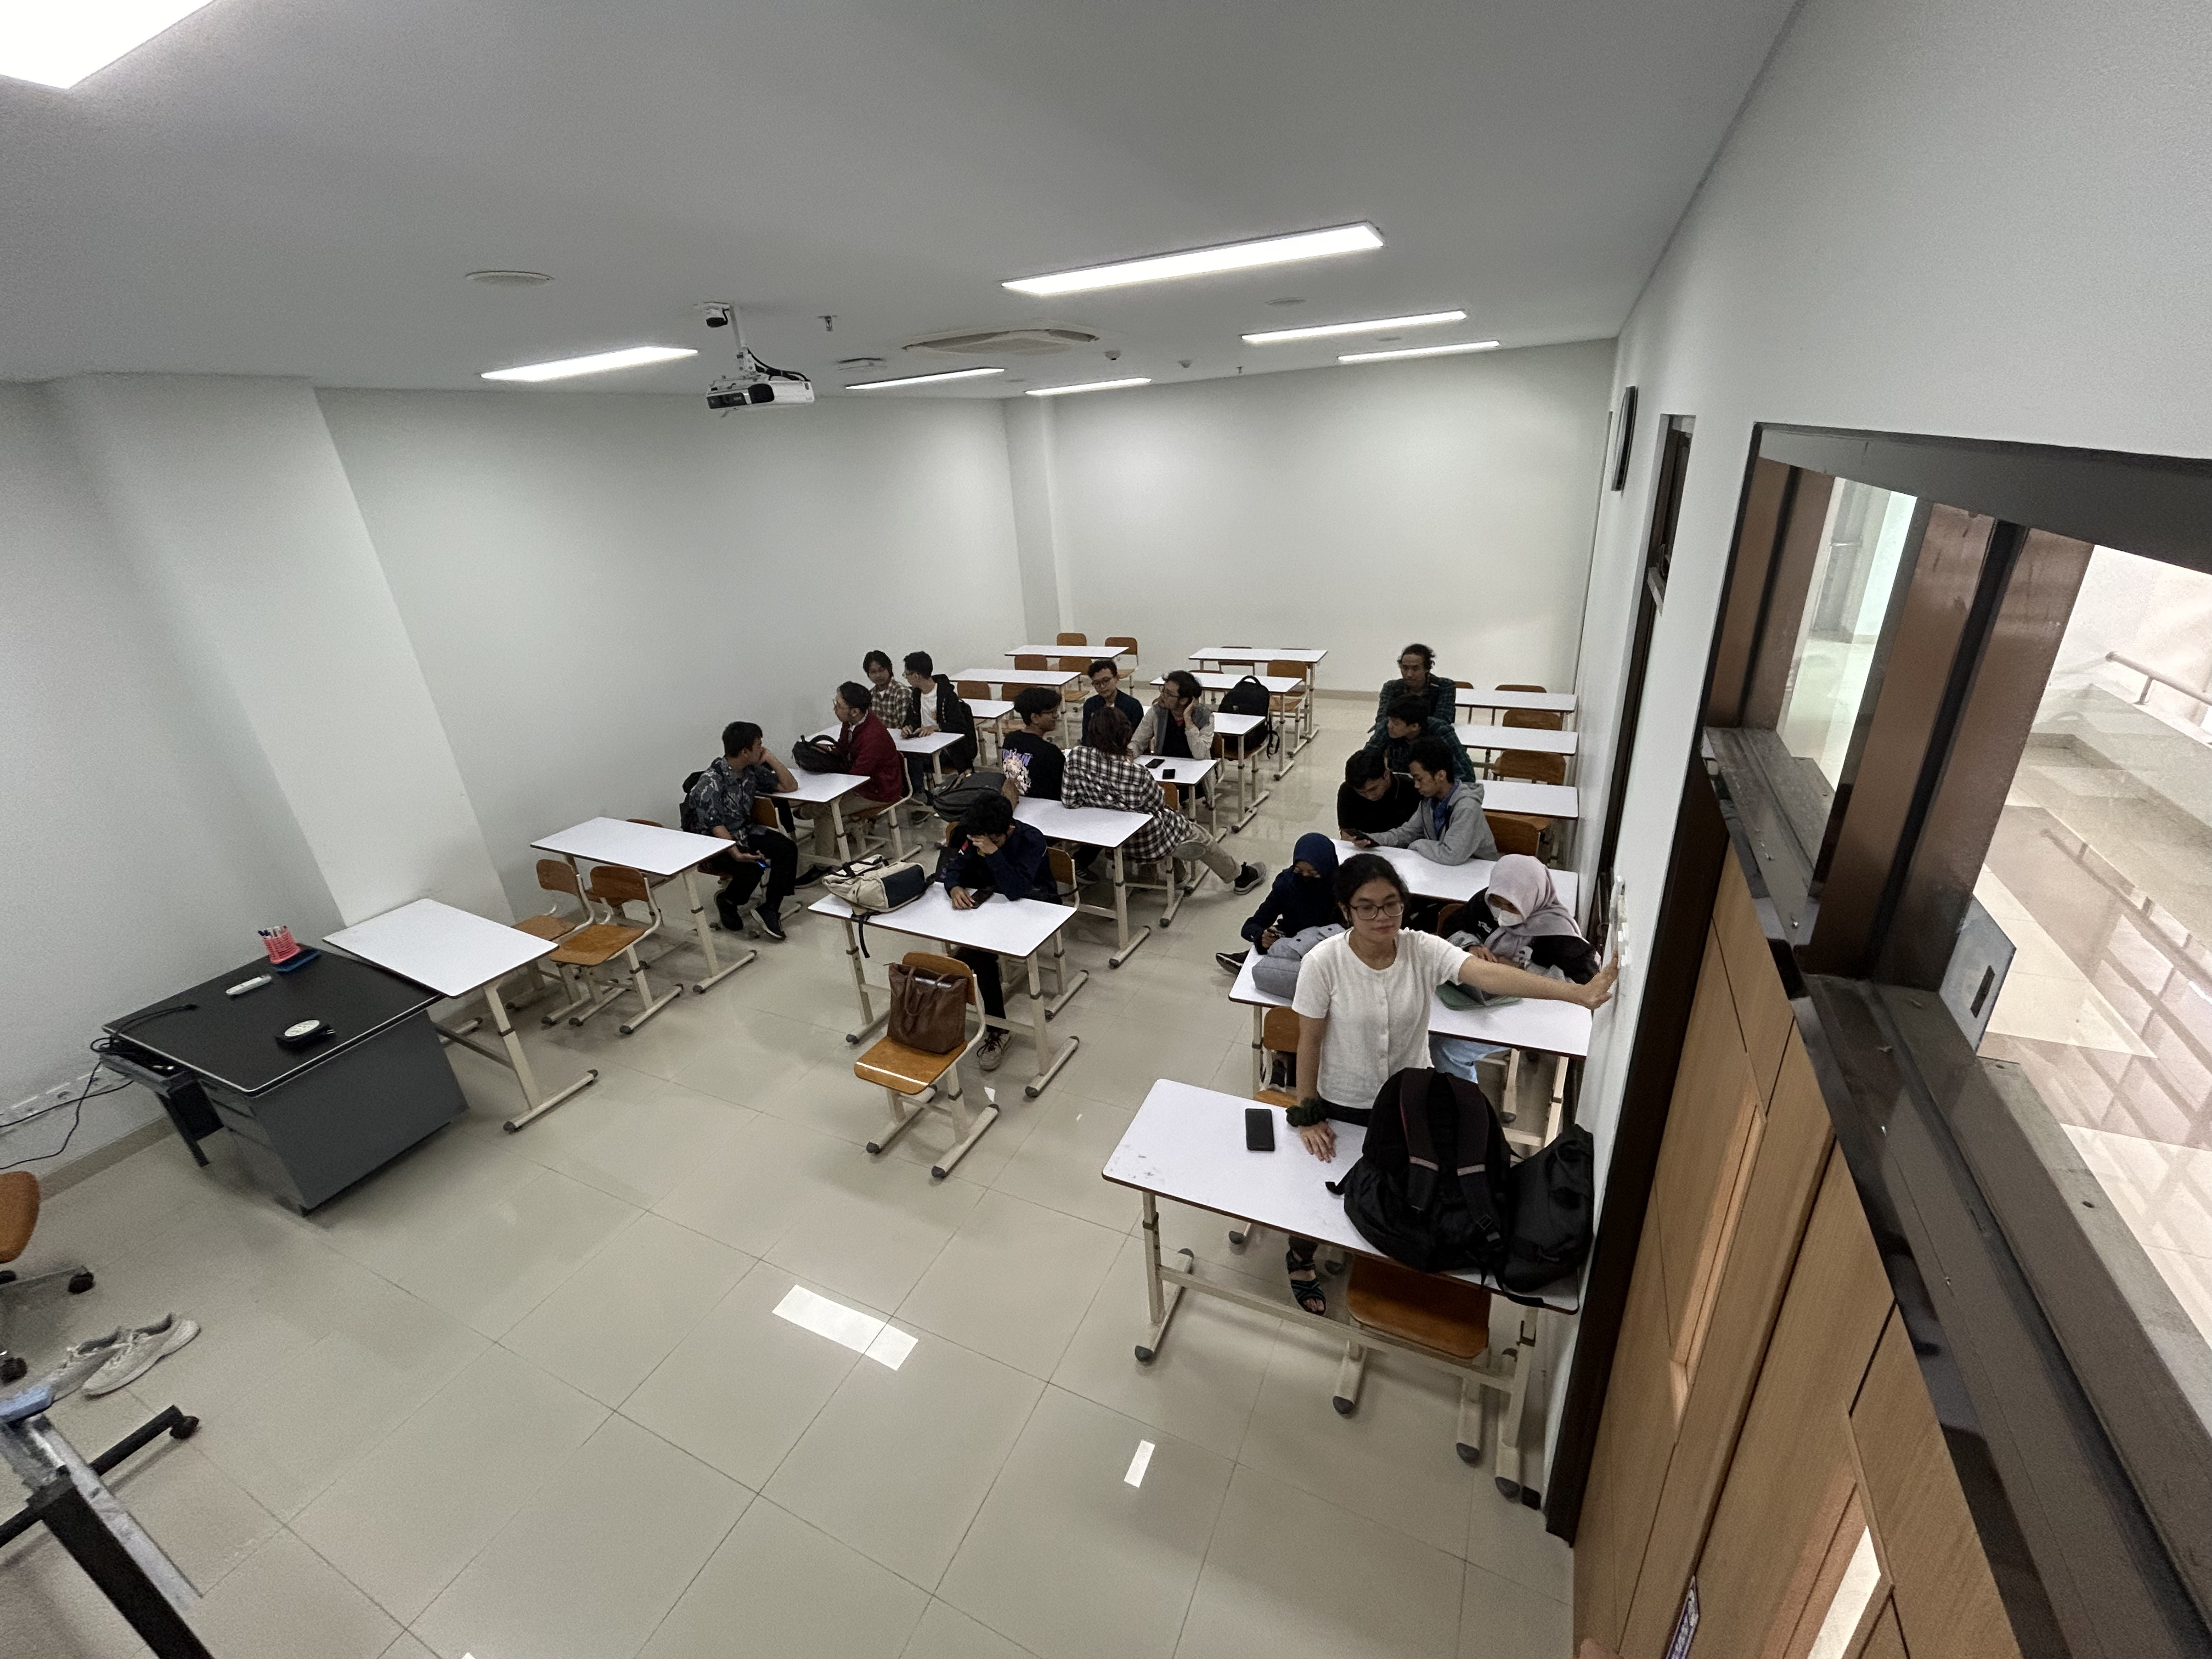person: (1329, 853, 1408, 942), (1483, 855, 1538, 927), (957, 792, 1016, 849), (1344, 750, 1394, 802), (719, 720, 768, 771), (1152, 671, 1205, 716), (1288, 832, 1332, 889), (1011, 687, 1063, 732), (1083, 707, 1136, 752), (1407, 751, 1455, 798), (1383, 695, 1429, 742), (898, 649, 940, 690), (830, 684, 870, 728), (859, 647, 901, 687), (1080, 658, 1122, 699), (1396, 644, 1432, 689)
